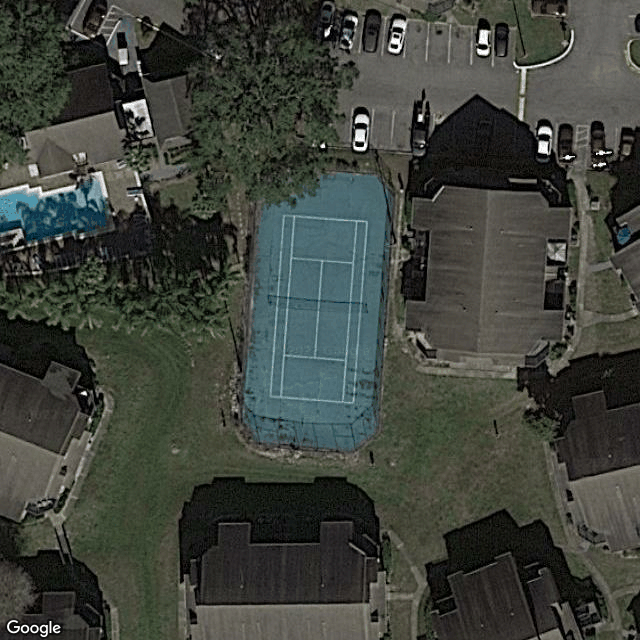Court: (269, 213, 369, 405)
